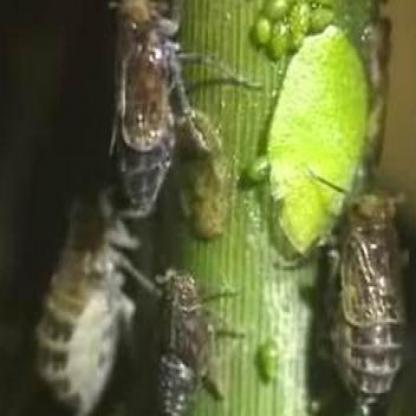brown-planthopper: (34, 186, 127, 412), (334, 187, 410, 416), (112, 1, 183, 212), (154, 265, 212, 416)
